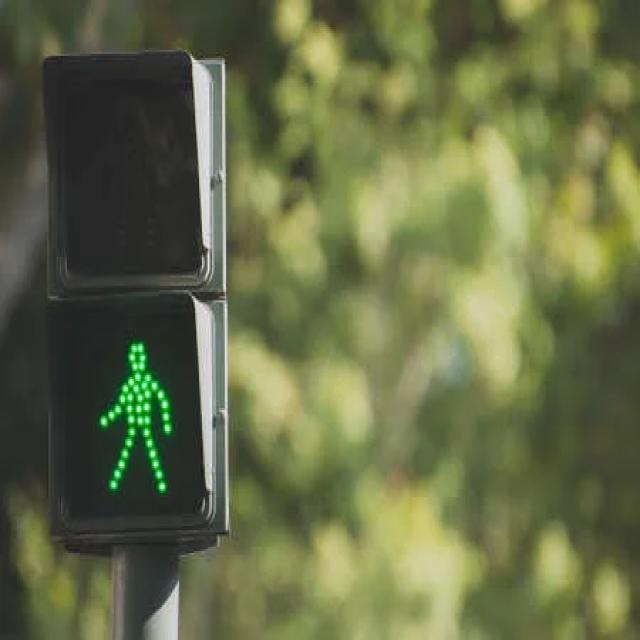Go: (55, 49, 247, 532), (50, 287, 236, 540)
